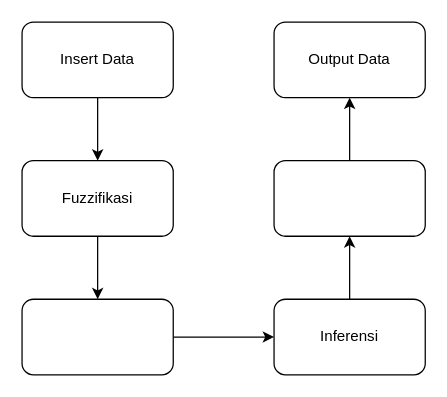
Image size: 447x397. Some labels were removed from this diagram. The shapes that lost their labels are listed below. From the top down, each one's box as (x1, y1, x2, y2) in pixels, then its label:
(273, 159, 425, 236): Defuzzifikasi
(21, 298, 173, 375): Implikasi
